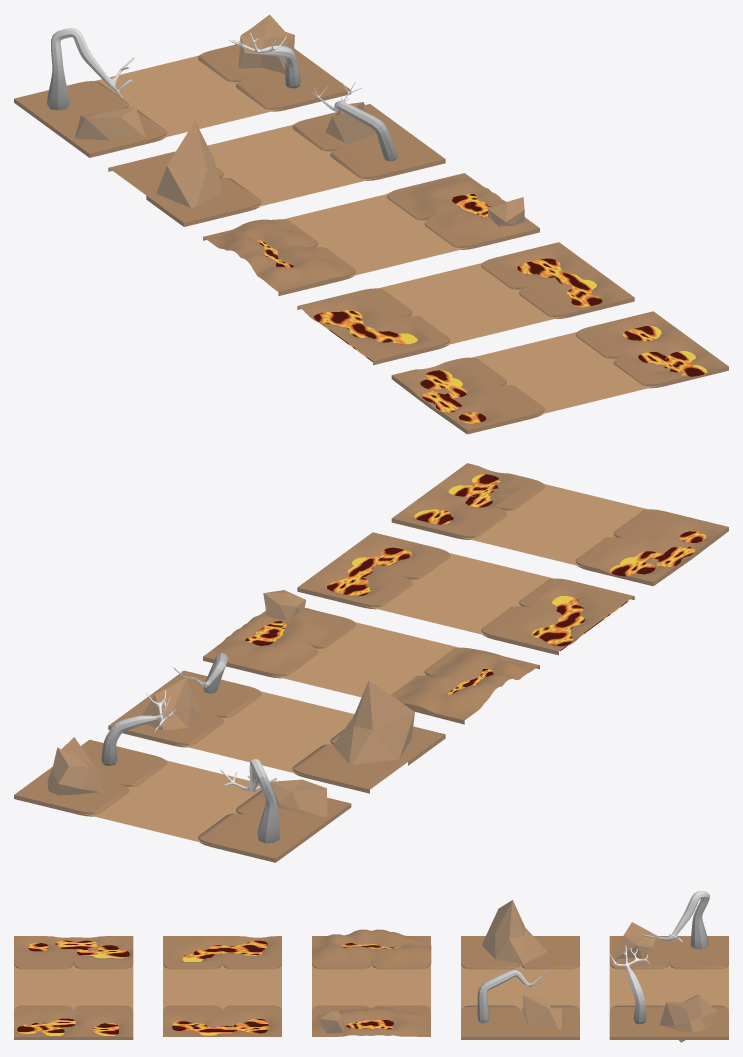
File: AshPath.glb
3 views of the same model, one above another, from view 1: azimuth 30°, elevation 25°; view 2: azimuth 150°, elevation 25°; view 3: azimuth 270°, elevation 25° (orthographic). The views are drawn at different scales.
Parts seen in each view (by area): view 1: Mod1, Mod2, Mod5, Mod3, Mod4; view 2: Mod1, Mod2, Mod5, Mod4, Mod3; view 3: Mod1, Mod2, Mod5, Mod3, Mod4.
Boxes of the visible parts, x1,y1,x2,y2 form: Mod1: (14, 14, 351, 157); Mod2: (108, 81, 445, 226); Mod5: (391, 311, 728, 434); Mod3: (203, 173, 539, 296); Mod4: (297, 242, 634, 365); Mod1: (14, 690, 351, 862); Mod2: (108, 652, 445, 793); Mod5: (391, 463, 728, 586); Mod4: (297, 532, 634, 655); Mod3: (203, 590, 539, 724); Mod1: (609, 891, 728, 1042); Mod2: (461, 900, 579, 1039); Mod5: (14, 936, 133, 1039); Mod3: (312, 929, 431, 1036); Mod4: (163, 936, 281, 1036).
Size of the model in its own units: 8 by 2.66 by 24.
Materials: 5 (2 with a texture image).
